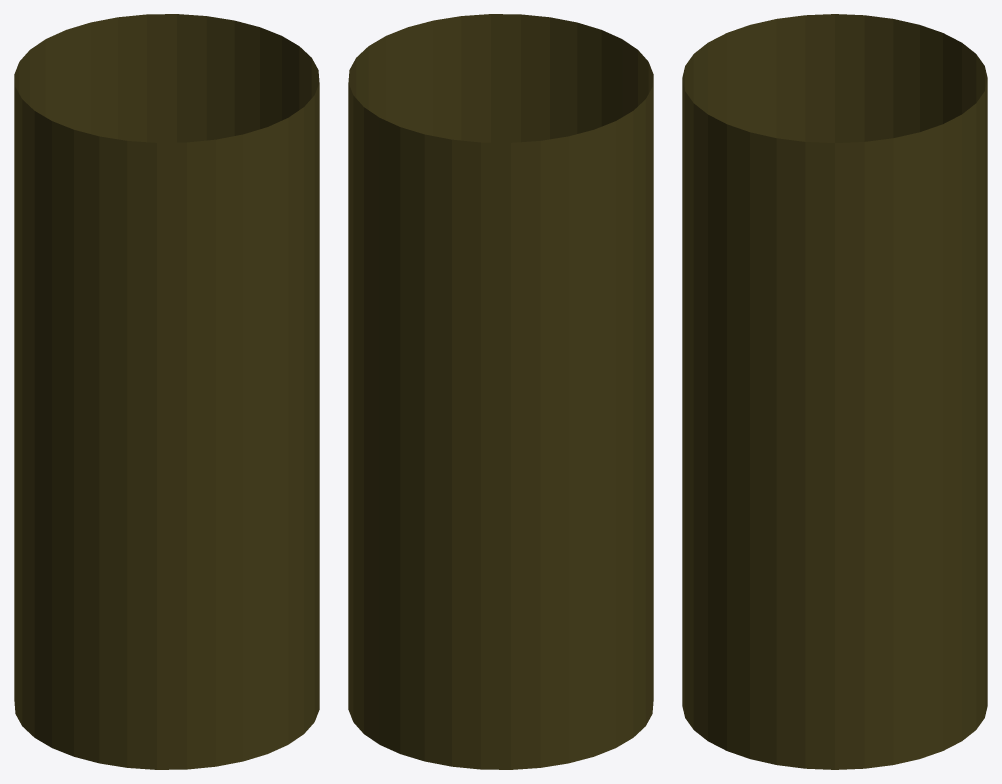
File: tree.fbx
3 renders of one model, left to right at view 1: azimuth 30°, elevation 25°; view 2: azimuth 150°, elevation 25°; view 3: azimuth 270°, elevation 25°, orthographic.
Visible parts, largest first — view 1: Cylinder; view 2: Cylinder; view 3: Cylinder.
Part boxes in pixels (x1,y1,x2,y2): Cylinder: (14, 14, 319, 769); Cylinder: (348, 14, 653, 769); Cylinder: (682, 14, 987, 769).
Size of the model in its own units: 200 by 453 by 200.
